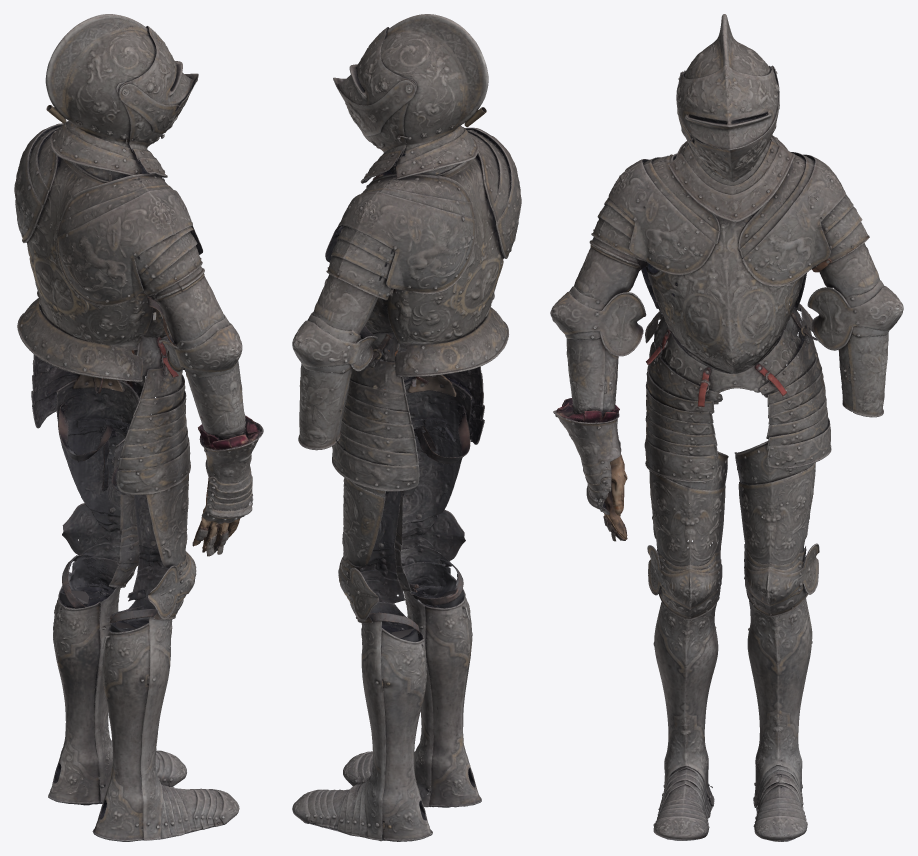
File: king-erik-xiv-studio.glb
The picture shows the model from 3 angles, left to right: view 1: azimuth 30°, elevation 25°; view 2: azimuth 150°, elevation 25°; view 3: azimuth 270°, elevation 25°; orthographic projection. The views are drawn at different scales.
Parts seen in each view (by area): view 1: Object_4, Object_2, Object_3, Object_8, Object_10, Object_6, Object_5, Object_7, Object_11, Object_9, Object_12, Object_13 (+1 smaller); view 2: Object_3, Object_4, Object_2, Object_5, Object_7, Object_6, Object_11, Object_8, Object_10, Object_12, Object_9, Object_14 (+1 smaller); view 3: Object_4, Object_2, Object_7, Object_6, Object_3, Object_8, Object_5, Object_9, Object_12, Object_13, Object_11, Object_10 (+1 smaller).
Boxes of the visible parts, box(x1,y1,x2,y2) form: Object_4: box(14, 26, 261, 837); Object_2: box(38, 14, 239, 841); Object_3: box(27, 75, 240, 839); Object_8: box(38, 70, 253, 833); Object_10: box(17, 106, 253, 805); Object_6: box(20, 26, 262, 801); Object_5: box(16, 51, 242, 785); Object_7: box(15, 132, 259, 612); Object_11: box(31, 112, 230, 615); Object_9: box(15, 121, 190, 841); Object_12: box(17, 226, 240, 633); Object_13: box(14, 155, 263, 607); Object_3: box(296, 33, 518, 839); Object_4: box(333, 30, 519, 841); Object_2: box(293, 14, 514, 841); Object_5: box(292, 36, 484, 812); Object_7: box(292, 114, 499, 652); Object_6: box(298, 27, 521, 841); Object_11: box(325, 219, 507, 577); Object_8: box(297, 70, 517, 785); Object_10: box(345, 134, 509, 818); Object_12: box(332, 302, 465, 621); Object_9: box(293, 125, 520, 831); Object_14: box(338, 107, 514, 806); Object_4: box(556, 29, 851, 806); Object_2: box(609, 14, 812, 841); Object_7: box(556, 141, 903, 617); Object_6: box(576, 64, 888, 822); Object_3: box(604, 38, 900, 790); Object_8: box(566, 106, 897, 840); Object_5: box(550, 70, 843, 841); Object_9: box(646, 143, 883, 839); Object_12: box(588, 212, 831, 610); Object_13: box(553, 160, 847, 627); Object_11: box(587, 143, 861, 608); Object_10: box(568, 141, 815, 811).
Bounding box in the file's own units: 0.3734 × 1.67 × 0.693.
1 material, 1 textured.
